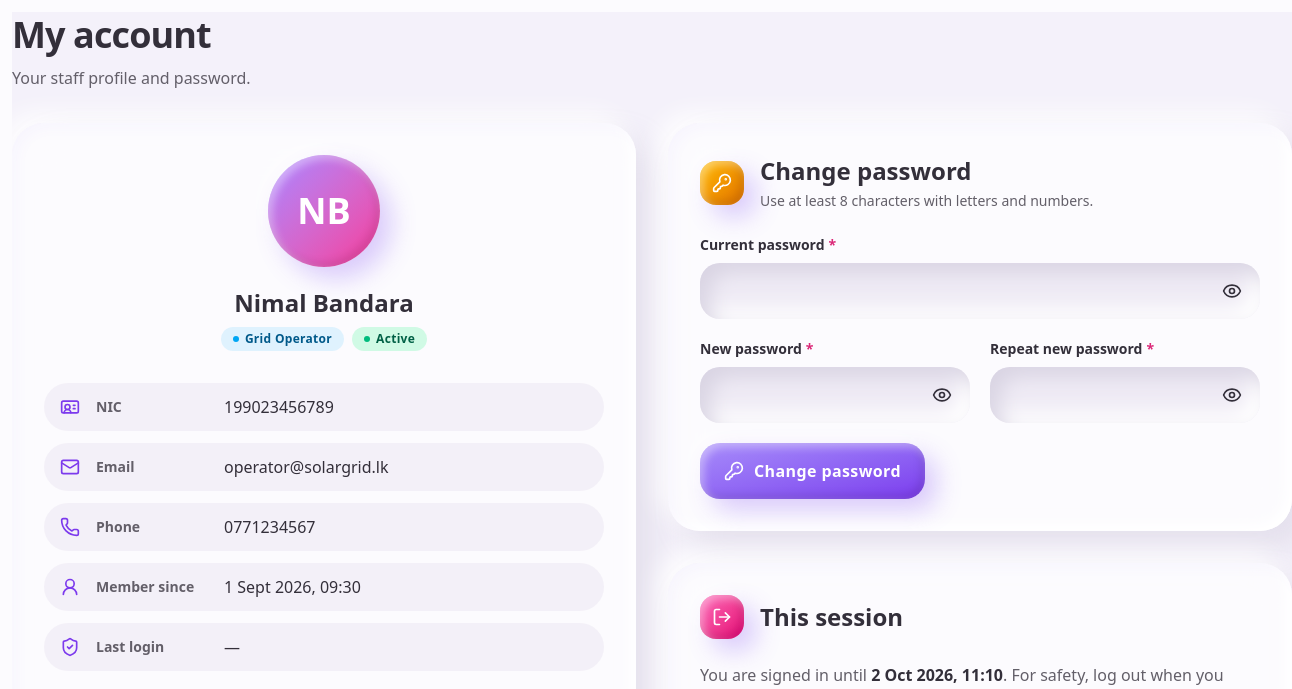
Test: AccountPage › stops when the two new passwords differ
Type "Operator@123" into the password field labelled "Current password" at coordinates (980, 291), box [700,263,1260,319]
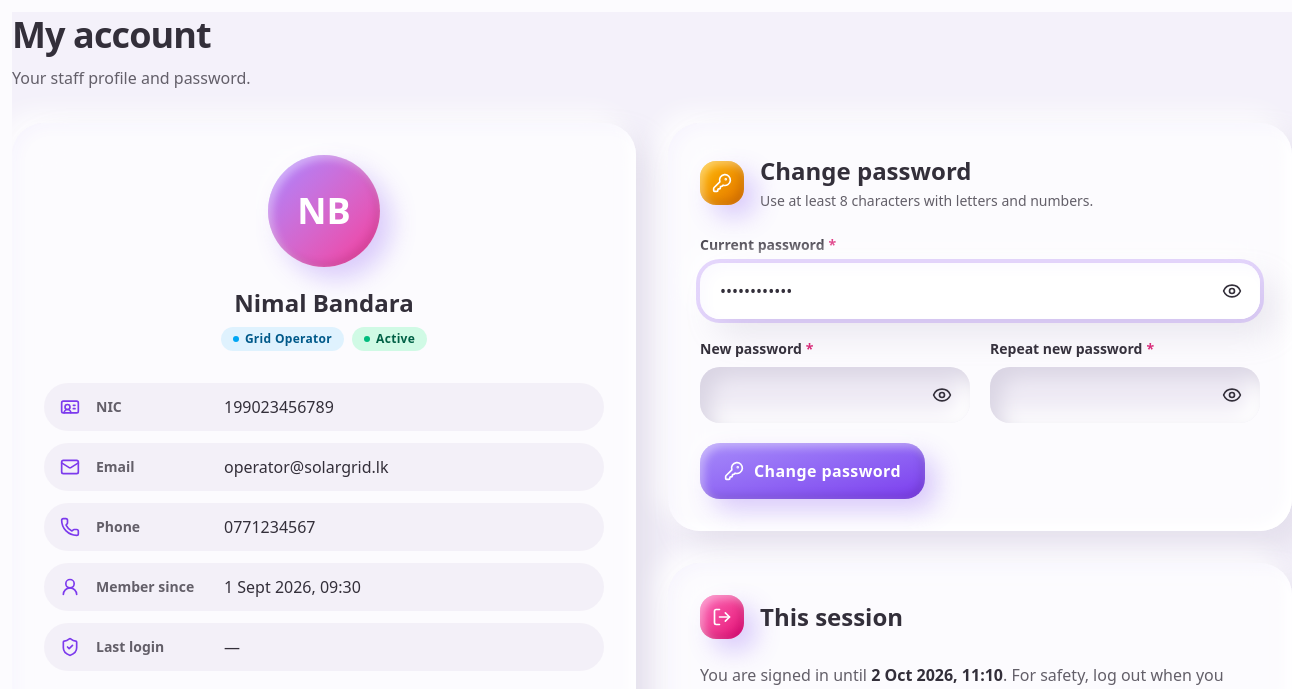
Type "Operator@456" into the password field labelled "New password" at coordinates (835, 395), box [700,367,970,423]
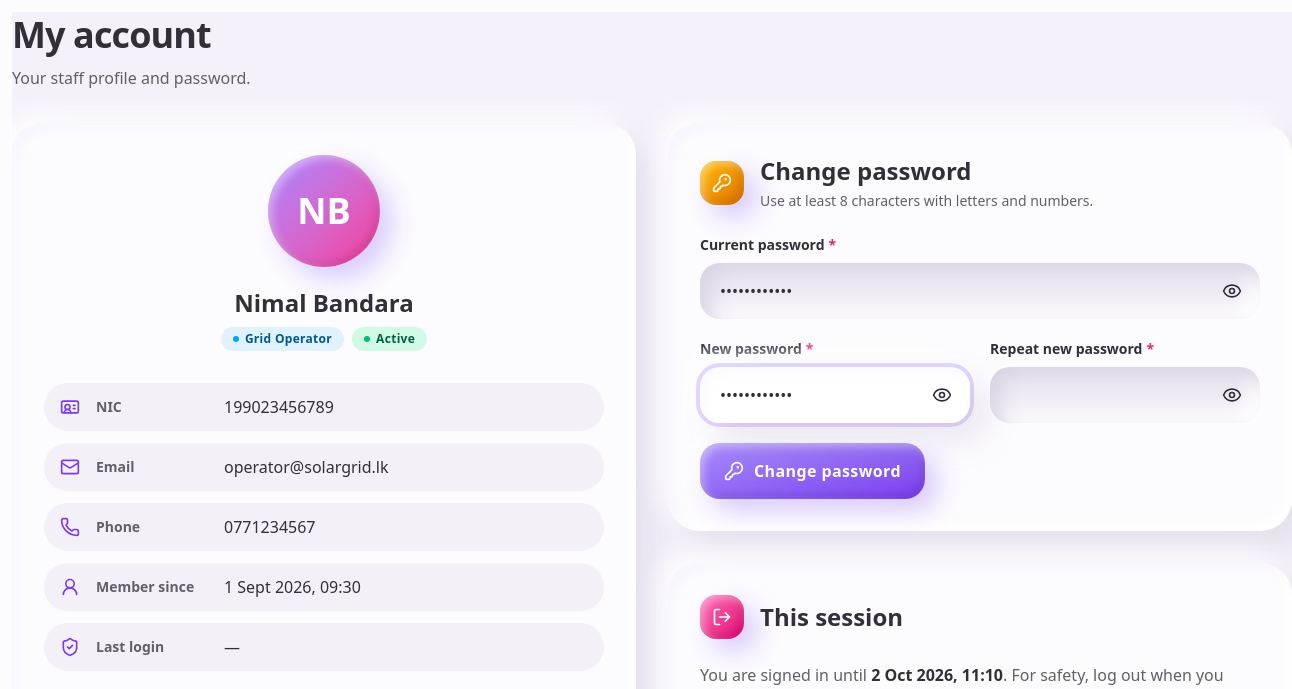
Type "Operator@789" into the password field labelled "Repeat new password" at coordinates (1125, 395), box [990,367,1260,423]
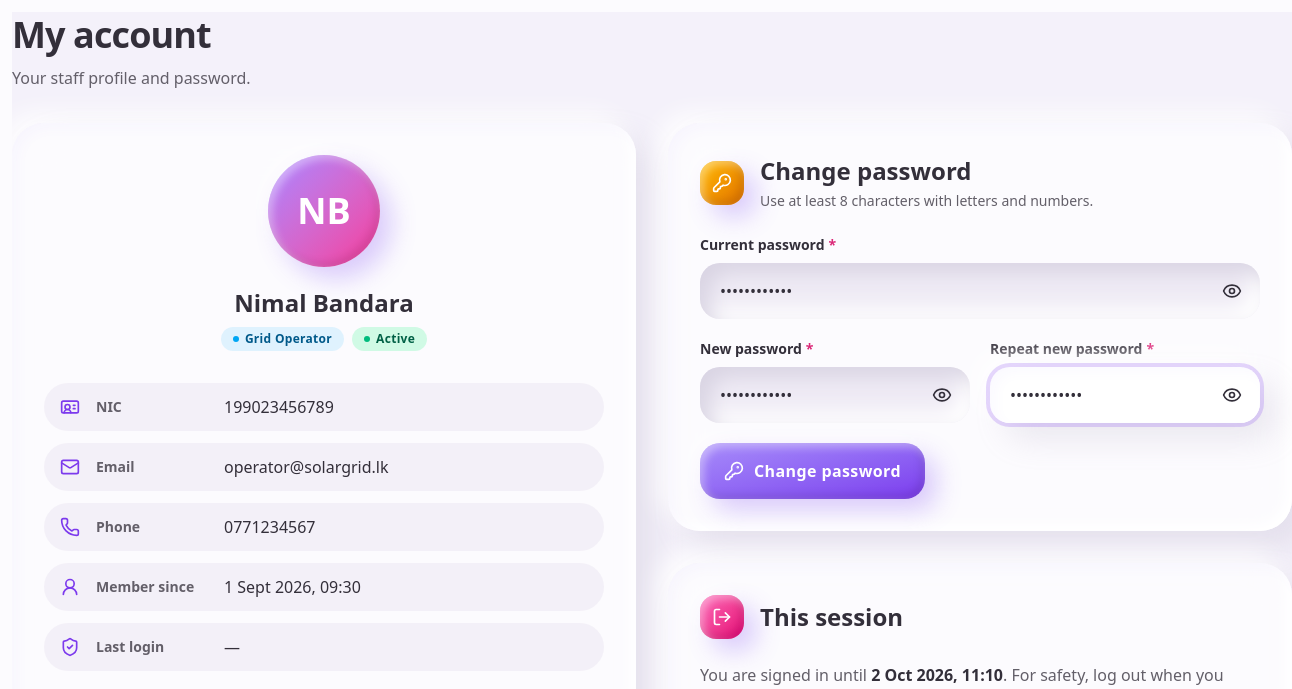
Click the button "Change password" at coordinates (812, 471), box [700,443,925,499]
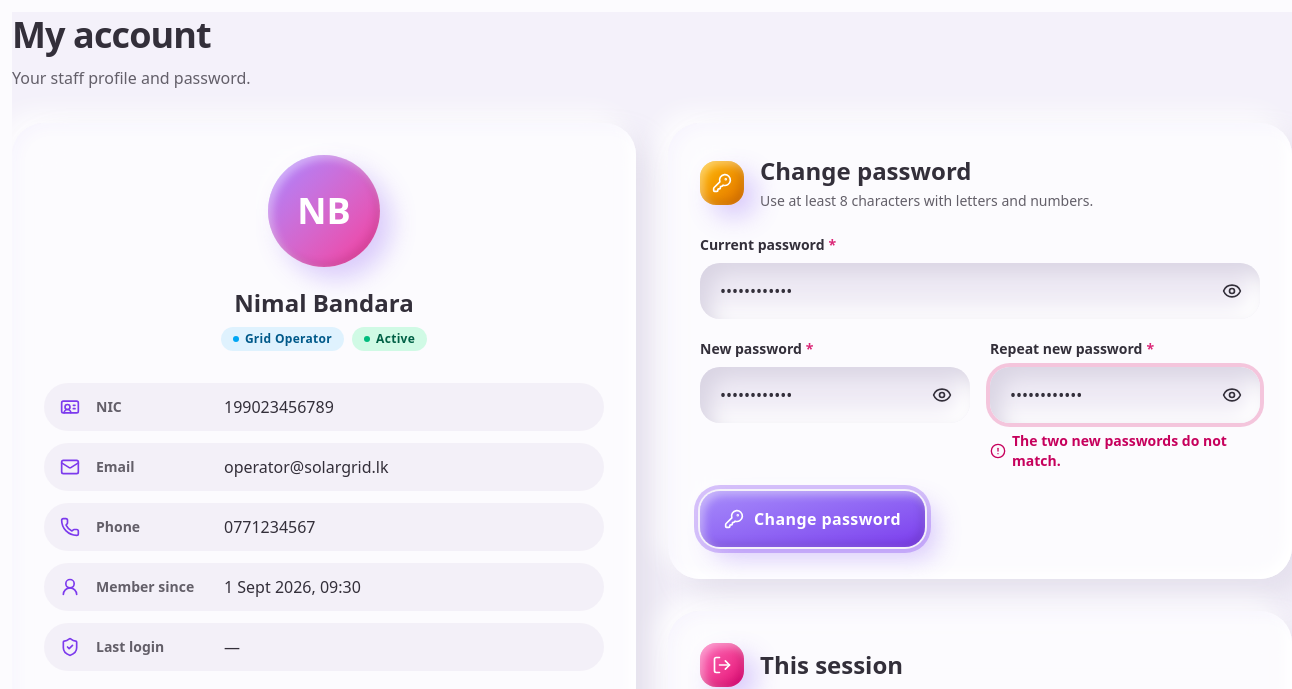
Check: the text "The two new passwords do not match." is shown, box [990,431,1260,471]
